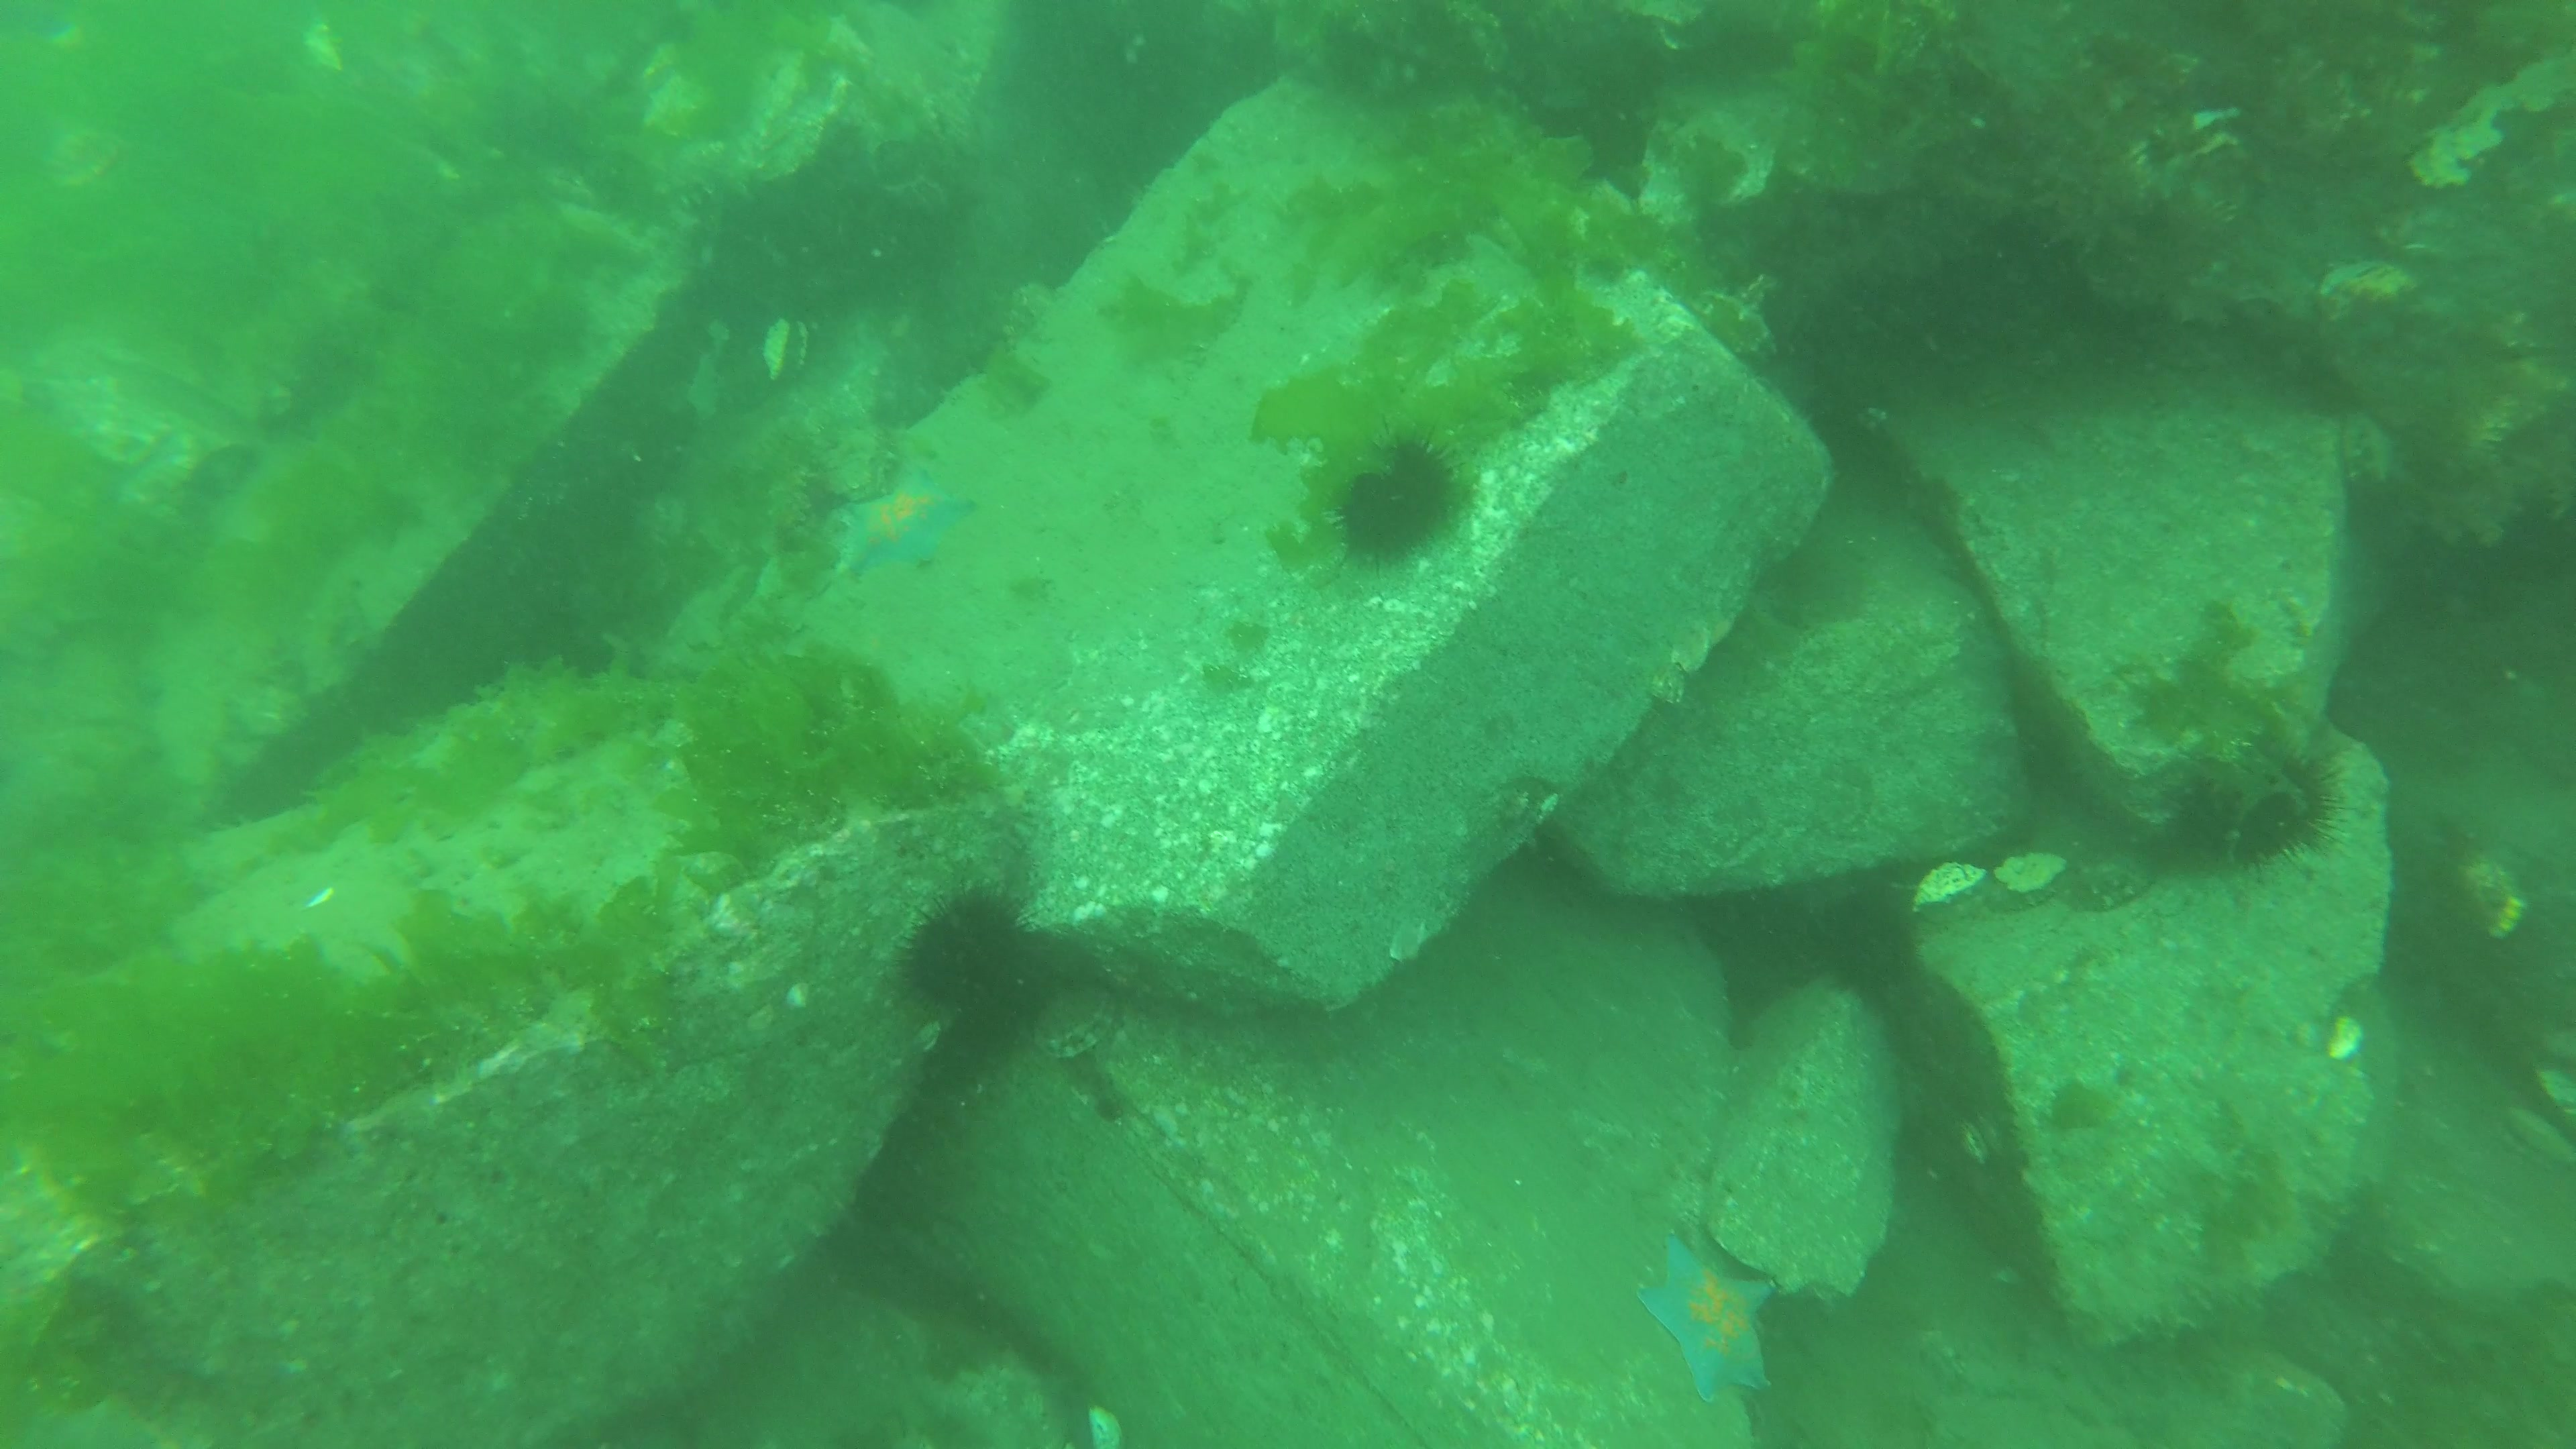echinus: (2176, 738, 2341, 869), (899, 888, 1030, 1016), (1339, 441, 1460, 570), (1824, 876, 1923, 1008)
starfish: (1631, 1230, 1780, 1405), (828, 469, 959, 580)
